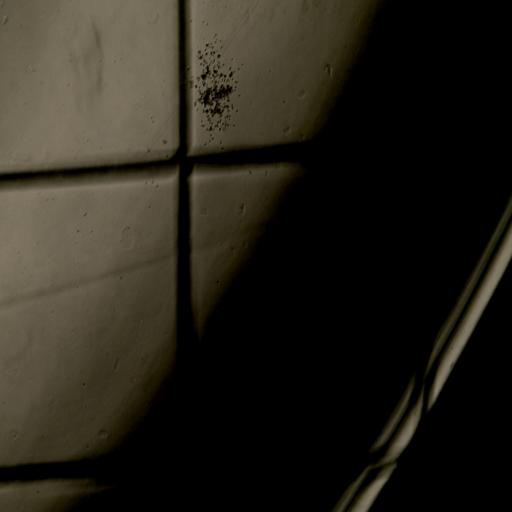CFU-GM: (194, 36, 236, 132)
